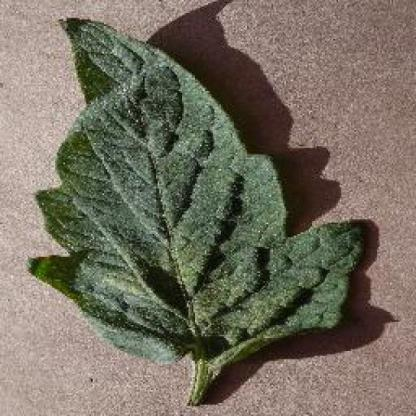Tomato_Spider_Mites: (30, 18, 368, 363)
